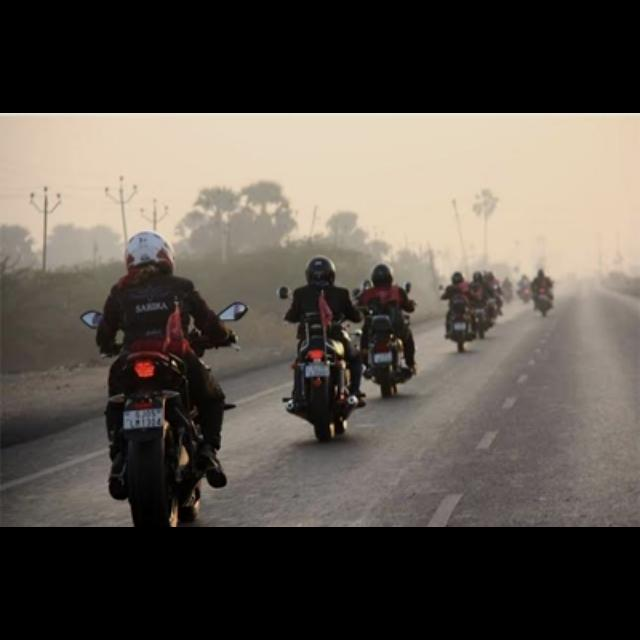With Helmet: (117, 227, 181, 283), (299, 248, 337, 294), (367, 256, 397, 294), (446, 265, 466, 287)
